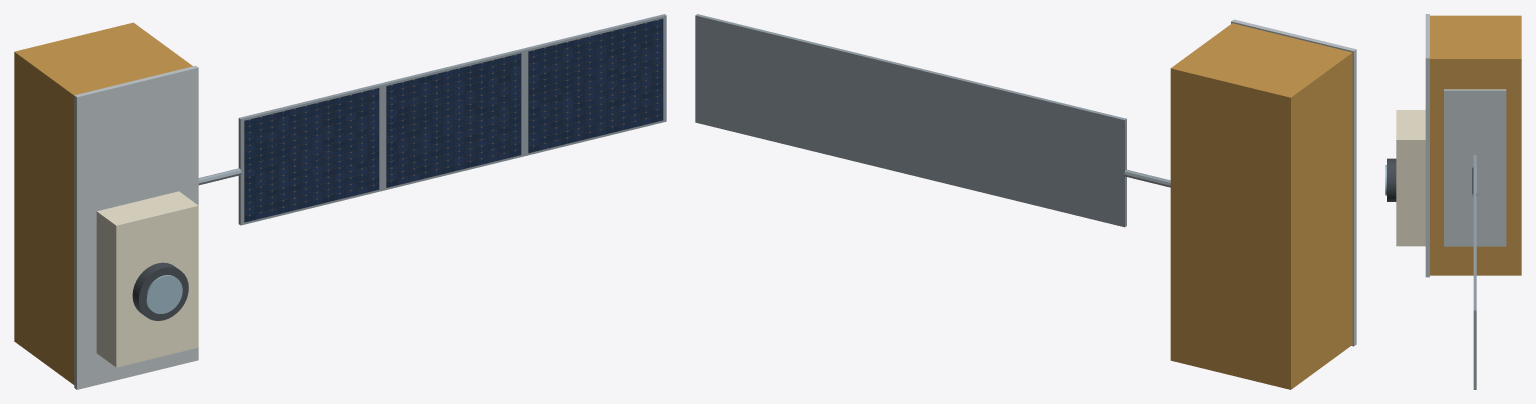
File: landsat-8-9.glb
3 views of the same model, side by side, from view 1: azimuth 30°, elevation 25°; view 2: azimuth 150°, elevation 25°; view 3: azimuth 270°, elevation 25° (orthographic). The views are drawn at different scales.
Parts seen in each view (by area): view 1: Photovoltaic laminates (×3), Equipment module, Payload deck, Instrument housing, Array frame (×3), Optical baffle, Optical aperture; view 2: Equipment module, Array frame (×3), Payload deck; view 3: Equipment module, Thermal radiator, Instrument housing, Payload deck, Array frame (×3), Optical baffle.
Part boxes in pixels (box(x1,y1,x2,y2)): Photovoltaic laminates (×3): box(244, 18, 663, 222); Equipment module: box(14, 22, 192, 384); Payload deck: box(74, 65, 198, 389); Instrument housing: box(96, 191, 198, 367); Array frame (×3): box(238, 14, 666, 225); Optical baffle: box(132, 262, 188, 320); Optical aperture: box(146, 275, 182, 313); Equipment module: box(1170, 23, 1352, 389); Array frame (×3): box(695, 14, 1126, 227); Payload deck: box(1231, 19, 1356, 346); Equipment module: box(1430, 15, 1521, 275); Thermal radiator: box(1444, 89, 1506, 246); Instrument housing: box(1396, 110, 1425, 246); Payload deck: box(1425, 14, 1429, 277); Array frame (×3): box(1473, 155, 1476, 389); Optical baffle: box(1387, 158, 1396, 201).
Size of the model in its own units: 13.03 by 5.86 by 3.3.
Materials: 7 (1 with a texture image).
